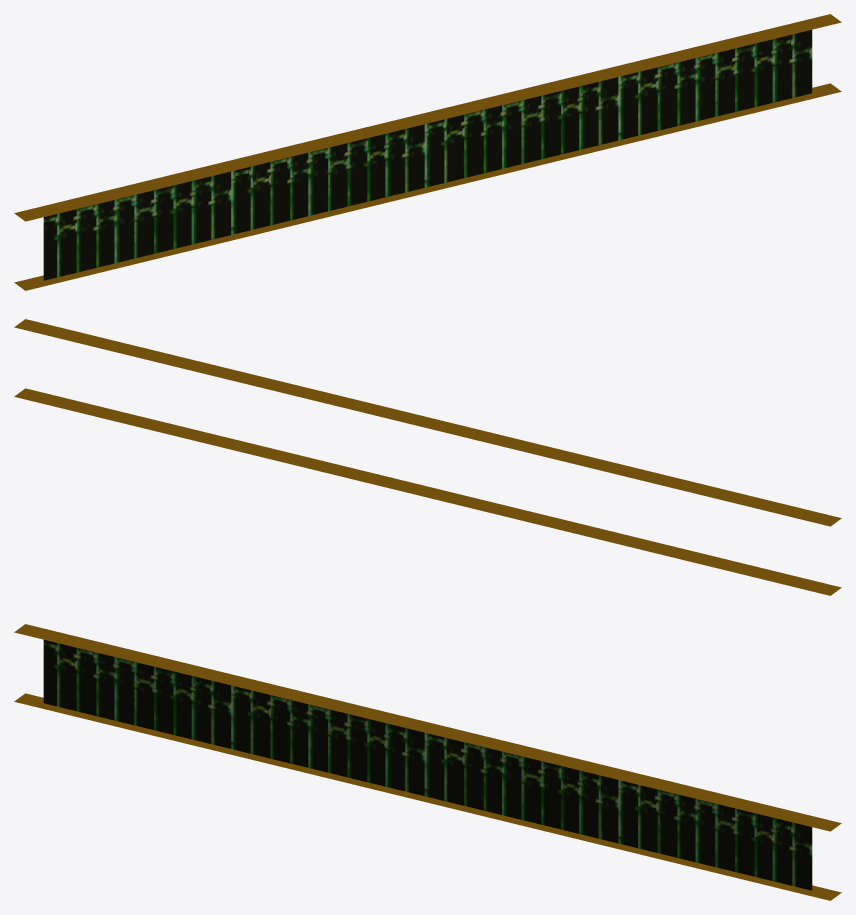
Rendered from Geländer4 [GrünesMetallDunkel]_1684.glb.
3 renders of one model, top to bottom at view 1: azimuth 30°, elevation 25°; view 2: azimuth 150°, elevation 25°; view 3: azimuth 330°, elevation 25°, orthographic.
Visible parts, largest first — view 1: pPlaneShape223, pPlaneShape224, pPlaneShape225; view 2: pPlaneShape224, pPlaneShape225; view 3: pPlaneShape223, pPlaneShape224, pPlaneShape225.
Part boxes in pixels (left/top/right/bottom): pPlaneShape223: left=43, top=30, right=812, bottom=280; pPlaneShape224: left=14, top=14, right=841, bottom=221; pPlaneShape225: left=14, top=83, right=841, bottom=290; pPlaneShape224: left=14, top=319, right=841, bottom=526; pPlaneShape225: left=14, top=388, right=841, bottom=595; pPlaneShape223: left=43, top=640, right=812, bottom=890; pPlaneShape224: left=14, top=624, right=841, bottom=831; pPlaneShape225: left=14, top=693, right=841, bottom=900.
Size of the model in its own units: 1 by 0.0811 by 0.0243.
Materials: 3 (1 with a texture image).
